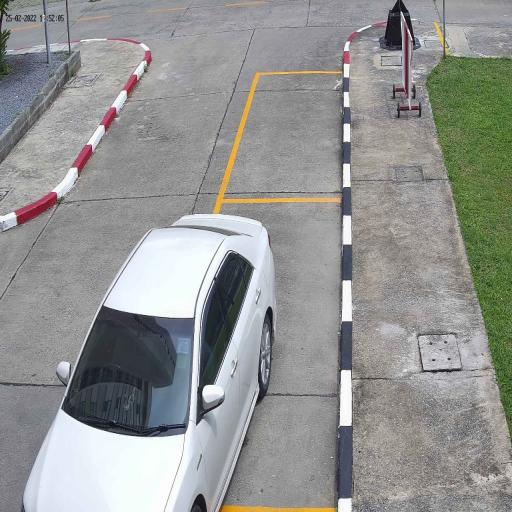car: (21, 210, 277, 512)
